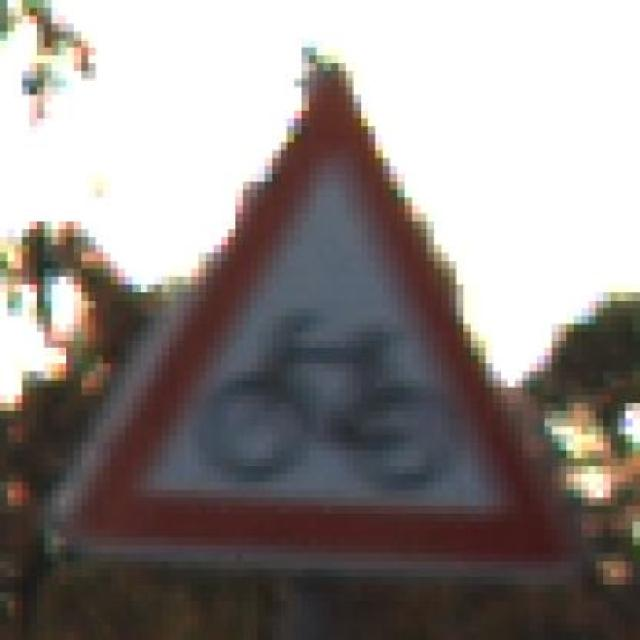CYCLE ROUTE AHEAD WARNING: (58, 63, 590, 585)
